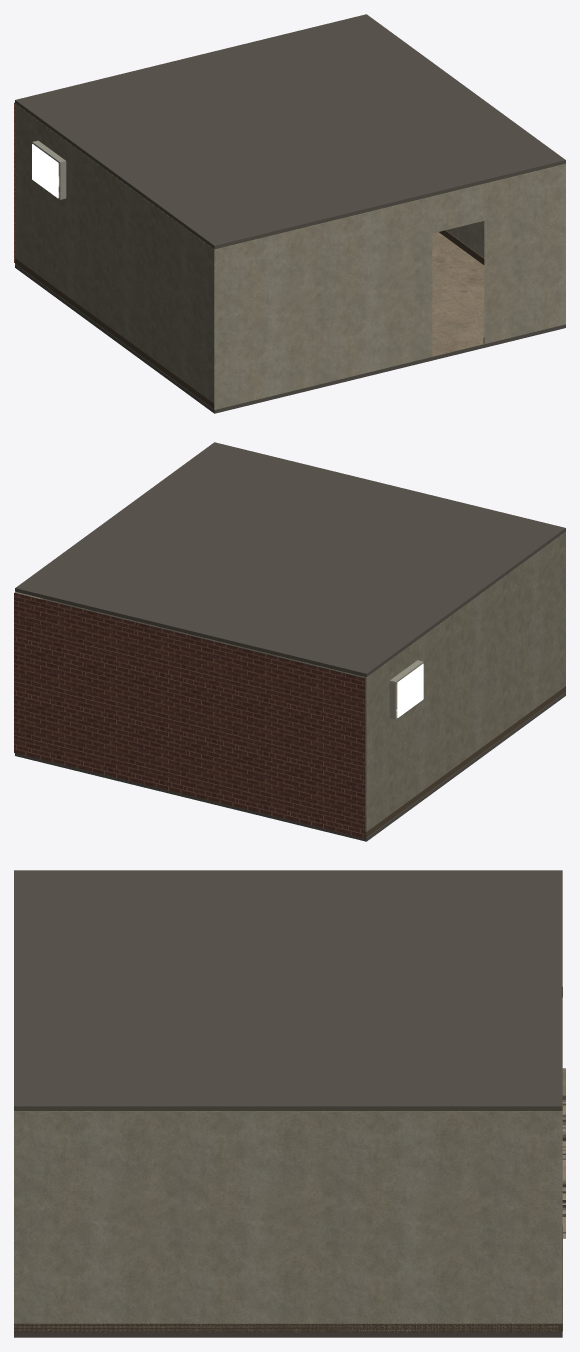
Rendered from room-baked-BRFSbCxc.glb.
3 renders of one model, top to bottom at view 1: azimuth 30°, elevation 25°; view 2: azimuth 150°, elevation 25°; view 3: azimuth 270°, elevation 25°, orthographic. The views are drawn at different scales.
Visible parts, largest first — view 1: object_0008_0008_2, static Warm lime plaster, object_0008_0008_7, object_0008_0008_1, object_0008_0008_0, static Dark brown skirting, object_0008_0008_11, object_0008_0008_8; view 2: object_0008_0008_2, object_0008_0008_5, object_0008_0008_7, object_0008_0008_0, static Dark brown skirting, object_0008_0008_11, static Warm lime plaster, object_0008_0008_8; view 3: object_0008_0008_2, static Warm lime plaster, static Dark brown skirting, object_0008_0008_0, object_0008_0008_6.
Boxes of the visible parts, bbox=[...] form: object_0008_0008_2: bbox=[15, 14, 565, 249]; static Warm lime plaster: bbox=[58, 164, 565, 409]; object_0008_0008_7: bbox=[15, 104, 214, 408]; object_0008_0008_1: bbox=[432, 232, 484, 356]; object_0008_0008_0: bbox=[15, 245, 565, 413]; static Dark brown skirting: bbox=[15, 230, 484, 409]; object_0008_0008_11: bbox=[32, 144, 58, 198]; object_0008_0008_8: bbox=[32, 140, 66, 199]; object_0008_0008_2: bbox=[15, 442, 565, 677]; object_0008_0008_5: bbox=[14, 592, 365, 838]; object_0008_0008_7: bbox=[366, 532, 565, 837]; object_0008_0008_0: bbox=[15, 692, 565, 841]; static Dark brown skirting: bbox=[365, 686, 565, 837]; object_0008_0008_11: bbox=[397, 664, 423, 717]; static Warm lime plaster: bbox=[15, 592, 366, 837]; object_0008_0008_8: bbox=[389, 660, 423, 719]; object_0008_0008_2: bbox=[14, 870, 562, 1111]; static Warm lime plaster: bbox=[14, 1112, 562, 1332]; static Dark brown skirting: bbox=[14, 1226, 562, 1332]; object_0008_0008_0: bbox=[14, 1332, 562, 1337]; object_0008_0008_6: bbox=[562, 1068, 565, 1238].
Size of the model in its own units: 6.33 by 2.83 by 6.13.
Materials: 67 (25 with a texture image).
